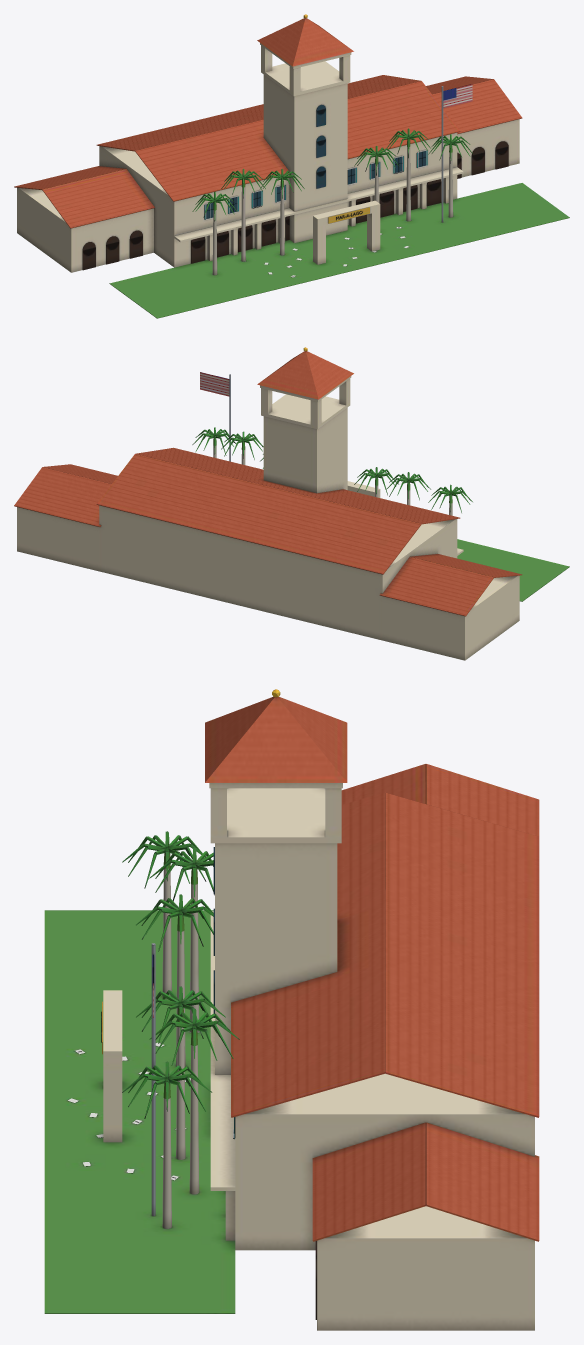
File: mar_a_lago.glb
3 renders of one model, top to bottom at view 1: azimuth 30°, elevation 25°; view 2: azimuth 150°, elevation 25°; view 3: azimuth 270°, elevation 25°, orthographic. The views are drawn at different scales.
Parts seen in each view (by area): view 1: mar_a_lago; view 2: mar_a_lago; view 3: mar_a_lago.
Part boxes in pixels (x1=…): mar_a_lago: x1=14, y1=14, x2=569, y2=318; mar_a_lago: x1=14, y1=347, x2=569, y2=660; mar_a_lago: x1=44, y1=689, x2=539, y2=1330.
Size of the model in its own units: 76.6 by 34.3 by 36.32.
1 material, 1 textured.
